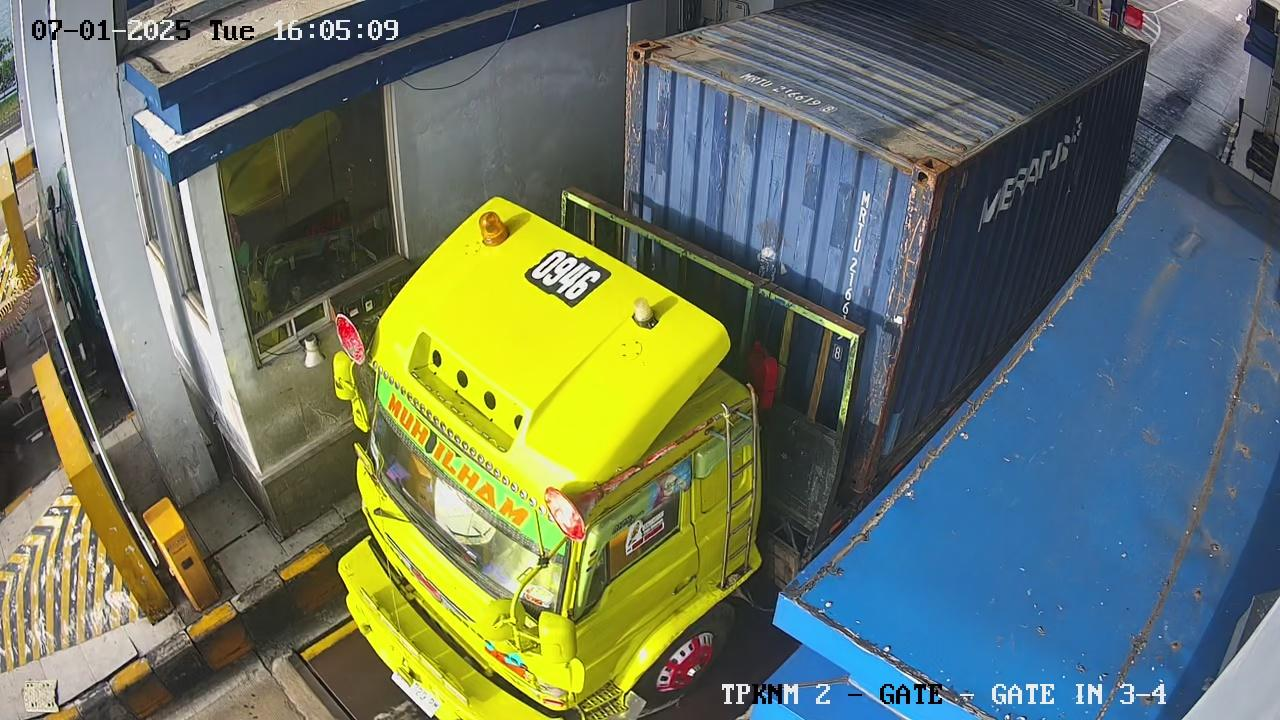Container_ID: (733, 69, 839, 125)
Container_ID_Vertikal: (825, 185, 875, 362)
